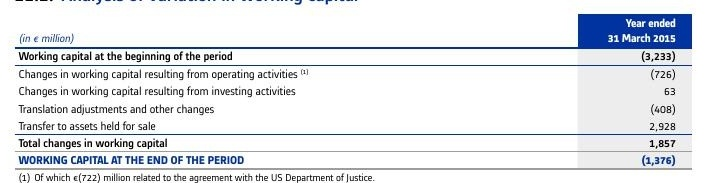table: (0, 0, 706, 183)
